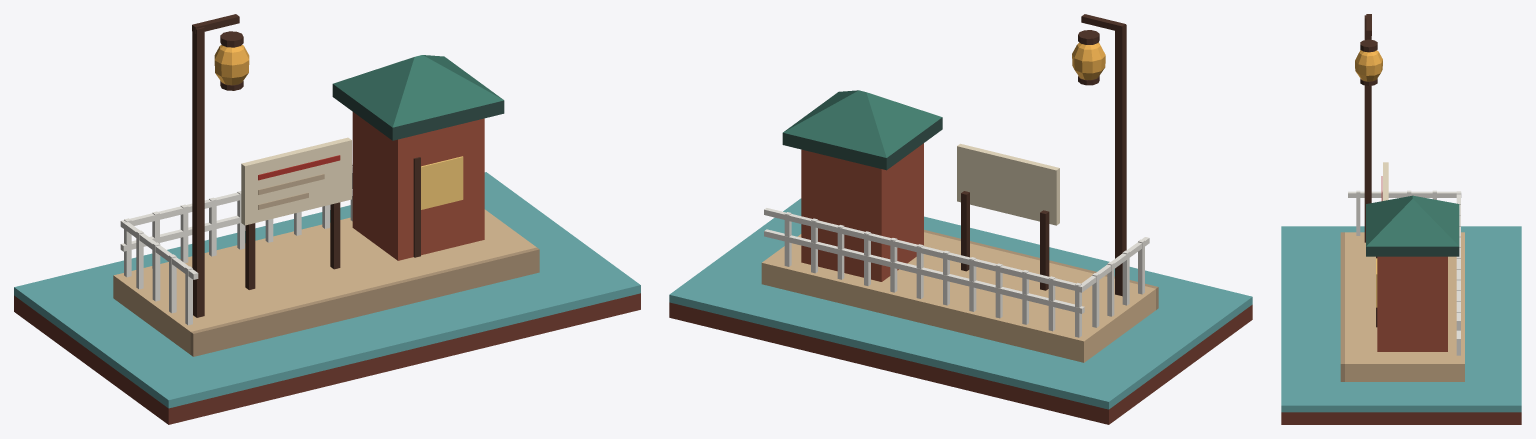
The model's file is station.glb.
The picture shows the model from 3 angles, left to right: view 1: azimuth 30°, elevation 25°; view 2: azimuth 150°, elevation 25°; view 3: azimuth 270°, elevation 25°; orthographic projection. The views are drawn at different scales.
Visible parts, largest first — view 1: station; view 2: station; view 3: station.
Part boxes in pixels (bbox=[...]): station: bbox=[14, 14, 640, 424]; station: bbox=[669, 14, 1252, 424]; station: bbox=[1281, 14, 1521, 424].
Size of the model in its own units: 3 by 2.05 by 1.7.
